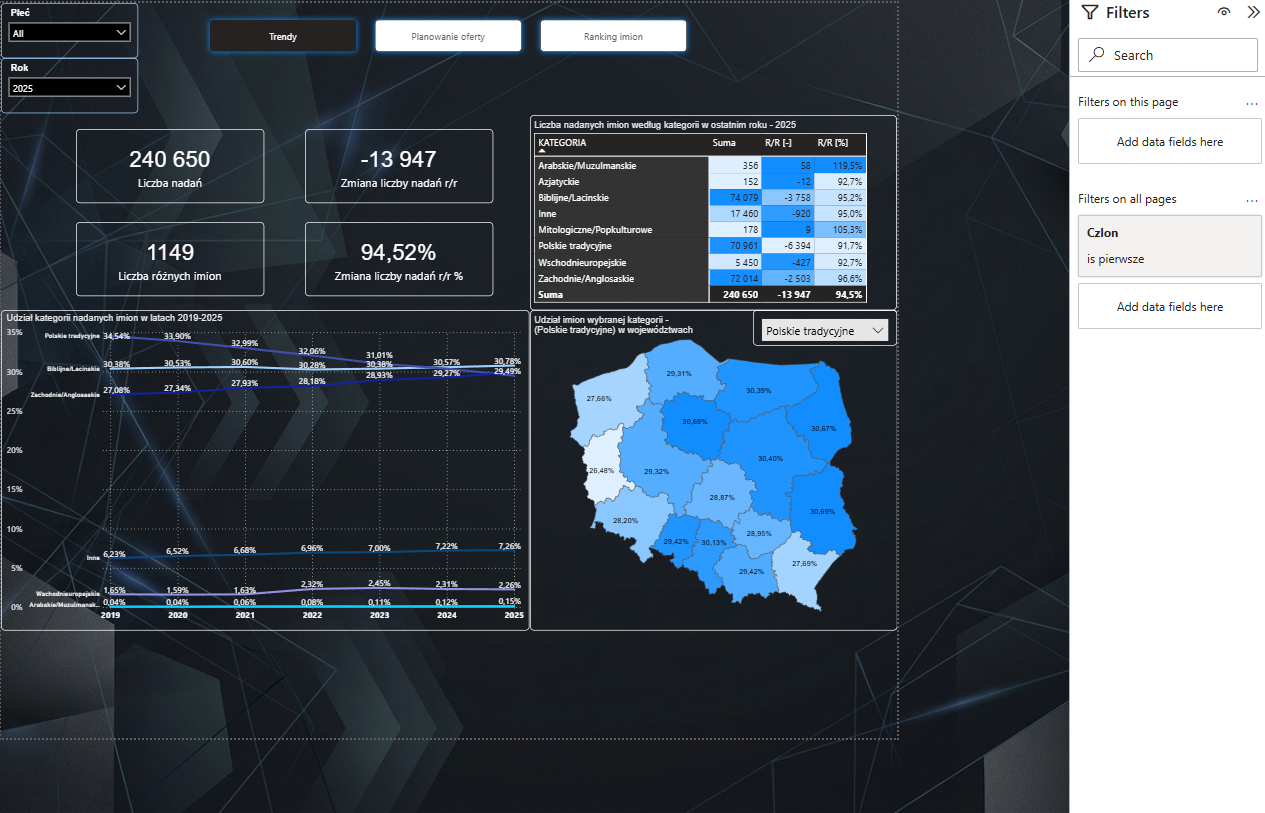

The page's visual inventory and layout, read from the dashboard file:
{"tool":"powerbi","page":{"name":"Trendy","canvas":[1280,1050],"ordinal":0},"visuals":[{"type":"shapeMap","fields":{"Category":["imiona_woj_wszystkie_lata.Column"],"Value":["imiona_woj_wszystkie_lata.Udział"]},"box":[755,439,525,458],"z":0},{"type":"lineChart","fields":{"Category":["imiona_woj_wszystkie_lata.Rok"],"Series":["imiona_kategorie.KATEGORIA"],"Y":["imiona_woj_wszystkie_lata.Udział"]},"box":[0,438.8,755,457.5],"z":1000},{"type":"slicer","fields":{"Values":["imiona_kategorie.KATEGORIA"]},"box":[1074.3,438.6,205.7,51.4],"z":2000},{"type":"slicer","fields":{"Values":["imiona_kategorie.PLEC"]},"box":[0,0,195.7,78.6],"z":3000},{"type":"card","fields":{"Values":["imiona_woj_wszystkie_lata.Udział"]},"box":[991.2,758.8,55,30],"z":4000},{"type":"card","fields":{"Values":["imiona_woj_wszystkie_lata.Udział"]},"box":[1045,800,53.8,23.8],"z":5000},{"type":"card","fields":{"Values":["imiona_woj_wszystkie_lata.Udział"]},"box":[1121.2,788.8,53.8,23.8],"z":6000},{"type":"card","fields":{"Values":["imiona_woj_wszystkie_lata.Udział"]},"box":[1147.5,715,53.8,23.8],"z":7000},{"type":"card","fields":{"Values":["imiona_woj_wszystkie_lata.Udział"]},"box":[1148.6,594.3,54.3,24.3],"z":8000},{"type":"card","fields":{"Values":["imiona_woj_wszystkie_lata.Udział"]},"box":[1055.7,540,54.3,24.3],"z":9000},{"type":"card","fields":{"Values":["imiona_woj_wszystkie_lata.Udział"]},"box":[942.9,515.7,52.9,24.3],"z":10000},{"type":"card","fields":{"Values":["imiona_woj_wszystkie_lata.Udział"]},"box":[1072.5,638.8,53.8,28.8],"z":11000},{"type":"card","fields":{"Values":["imiona_woj_wszystkie_lata.Udział"]},"box":[963.8,582.5,55,35],"z":12000},{"type":"card","fields":{"Values":["imiona_woj_wszystkie_lata.Udział"]},"box":[828.8,552.5,52.5,30],"z":13000},{"type":"card","fields":{"Values":["imiona_woj_wszystkie_lata.Udział"]},"box":[910,655.7,54.3,24.3],"z":14000},{"type":"card","fields":{"Values":["imiona_woj_wszystkie_lata.Udział"]},"box":[1004.3,692.9,52.9,24.3],"z":15000},{"type":"card","fields":{"Values":["imiona_woj_wszystkie_lata.Udział"]},"box":[1057.1,744.3,52.9,24.3],"z":16000},{"type":"card","fields":{"Values":["imiona_woj_wszystkie_lata.Udział"]},"box":[938.6,755.7,52.9,24.3],"z":17000},{"type":"card","fields":{"Values":["imiona_woj_wszystkie_lata.Udział"]},"box":[866.2,727.5,53.8,26.2],"z":18000},{"type":"card","fields":{"Values":["imiona_woj_wszystkie_lata.Udział"]},"box":[831.4,654.3,54.3,24.3],"z":19000},{"type":"pivotTable","fields":{"Rows":["Przydzielenie_kategorii.KATEGORIA"],"Values":["Sum(Imiona.LICZBA)","Przydzielenie_kategorii.Measure","Przydzielenie_kategorii.Measure 2"]},"box":[755.6,160,524.4,278.9],"z":20000},{"type":"card","title":"d","fields":{"Values":["Imiona.Liczba_imion"]},"box":[107.1,180,268.6,105.7],"z":21000},{"type":"card","title":"Przykładowy tytuł","fields":{"Values":["Kategorie.TYvsYO"]},"box":[434.3,180,268.6,105.7],"z":22000},{"type":"card","title":"Przykładowy tytuł","fields":{"Values":["Miary.Liczba różnych imion"]},"box":[107.1,312.9,268.6,105.7],"z":23000},{"type":"card","title":"Przykładowy tytuł","fields":{"Values":["Kategorie.TYvsYOprocent"]},"box":[434.3,312.9,268.6,105.7],"z":24000},{"type":"pageNavigator","box":[290,16.2,700,62.5],"z":25000},{"type":"slicer","fields":{"Values":["Imiona.Rok"]},"box":[0,78.6,195.7,78.6],"z":26000}]}

Visuals, with their boxes on the page's 1280x1050 design canvas (x1, y1, x2, y2). These are canvas units, not pixel positions in the 1265x813 screenshot, which may show the page scaled, cropped or inside an application window:
shapeMap - imiona_woj_wszystkie_lata.Column x imiona_woj_wszystkie_lata.Udział: crop(755, 439, 1280, 897)
lineChart - imiona_woj_wszystkie_lata.Rok x imiona_kategorie.KATEGORIA: crop(0, 439, 755, 896)
slicer - imiona_kategorie.KATEGORIA: crop(1074, 439, 1280, 490)
slicer - imiona_kategorie.PLEC: crop(0, 0, 196, 79)
card - imiona_woj_wszystkie_lata.Udział: crop(991, 759, 1046, 789)
card - imiona_woj_wszystkie_lata.Udział: crop(1045, 800, 1099, 824)
card - imiona_woj_wszystkie_lata.Udział: crop(1121, 789, 1175, 813)
card - imiona_woj_wszystkie_lata.Udział: crop(1148, 715, 1201, 739)
card - imiona_woj_wszystkie_lata.Udział: crop(1149, 594, 1203, 619)
card - imiona_woj_wszystkie_lata.Udział: crop(1056, 540, 1110, 564)
card - imiona_woj_wszystkie_lata.Udział: crop(943, 516, 996, 540)
card - imiona_woj_wszystkie_lata.Udział: crop(1072, 639, 1126, 668)
card - imiona_woj_wszystkie_lata.Udział: crop(964, 582, 1019, 618)
card - imiona_woj_wszystkie_lata.Udział: crop(829, 552, 881, 582)
card - imiona_woj_wszystkie_lata.Udział: crop(910, 656, 964, 680)
card - imiona_woj_wszystkie_lata.Udział: crop(1004, 693, 1057, 717)
card - imiona_woj_wszystkie_lata.Udział: crop(1057, 744, 1110, 769)
card - imiona_woj_wszystkie_lata.Udział: crop(939, 756, 992, 780)
card - imiona_woj_wszystkie_lata.Udział: crop(866, 728, 920, 754)
card - imiona_woj_wszystkie_lata.Udział: crop(831, 654, 886, 679)
pivotTable - Przydzielenie_kategorii.KATEGORIA x Sum(Imiona.LICZBA): crop(756, 160, 1280, 439)
"d" card: crop(107, 180, 376, 286)
"Przykładowy tytuł" card: crop(434, 180, 703, 286)
"Przykładowy tytuł" card: crop(107, 313, 376, 419)
"Przykładowy tytuł" card: crop(434, 313, 703, 419)
pageNavigator: crop(290, 16, 990, 79)
slicer - Imiona.Rok: crop(0, 79, 196, 157)
